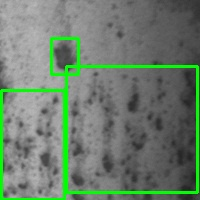patches: (51, 38, 78, 74)
pitted_surface: (66, 66, 197, 192), (1, 90, 64, 199)
